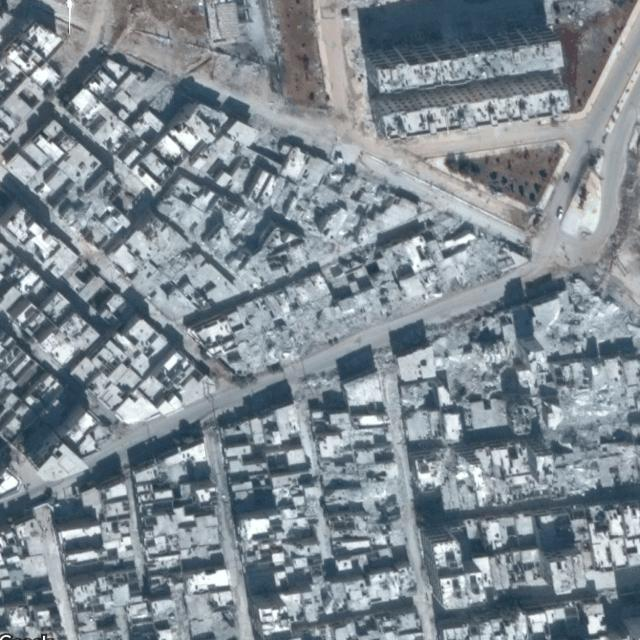damaged_building: (190, 163, 526, 387), (545, 275, 637, 494), (433, 308, 517, 406)
